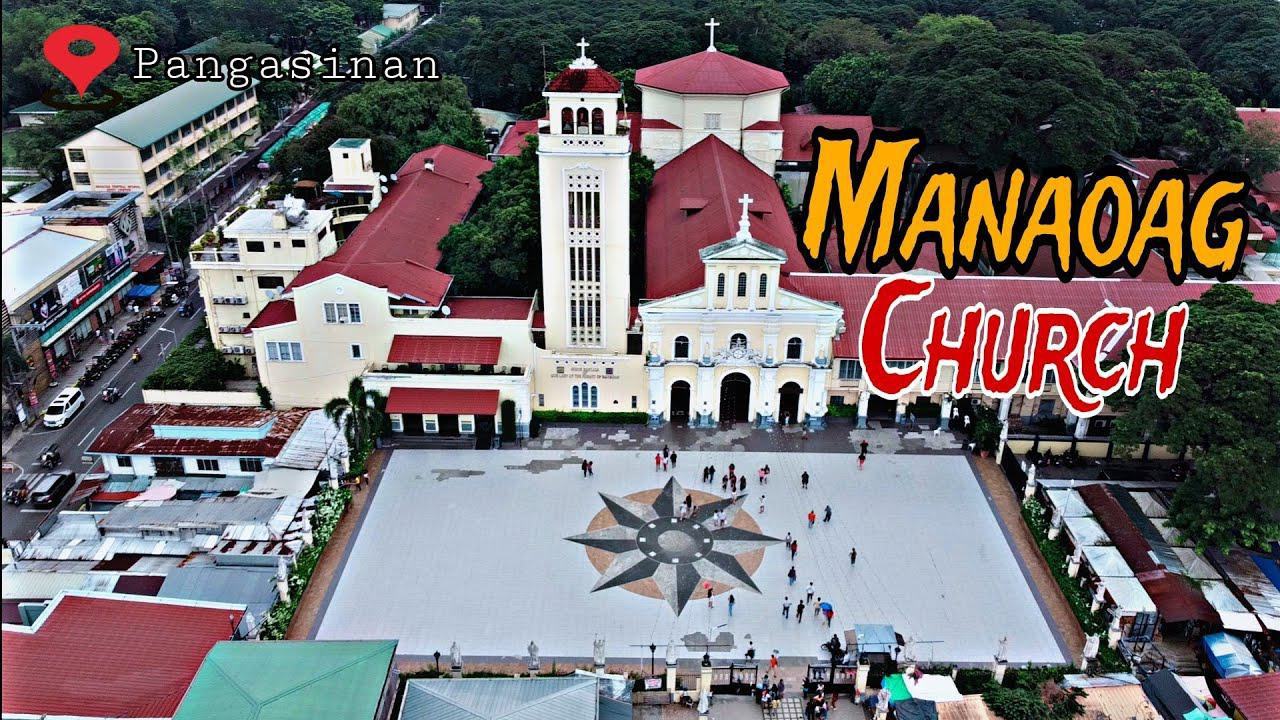manaoag_church_manaoag_pangasinan: (531, 35, 839, 436)
